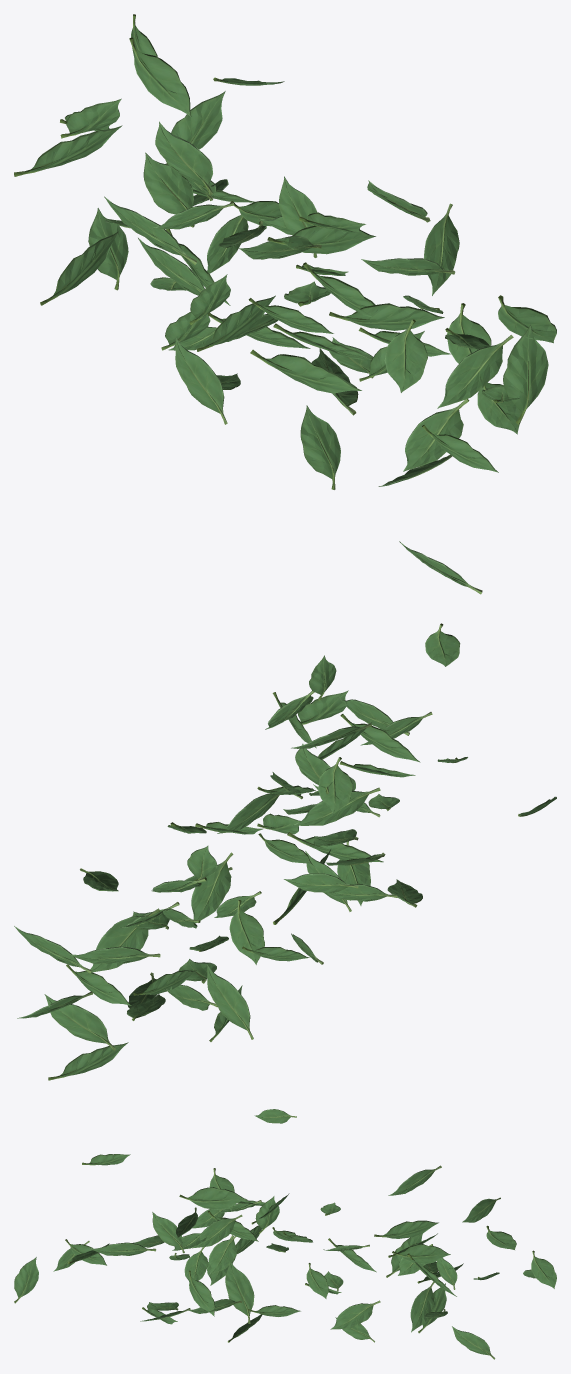
File: holy_canopy10_full.glb
The picture shows the model from 3 angles, top to bottom: view 1: azimuth 30°, elevation 25°; view 2: azimuth 150°, elevation 25°; view 3: azimuth 270°, elevation 25°; orthographic projection. The views are drawn at different scales.
Visible parts, largest first — view 1: holy_canopy10; view 2: holy_canopy10; view 3: holy_canopy10.
Part boxes in pixels (x1,y1,x2,y2): holy_canopy10: (14,14,556,594); holy_canopy10: (14,623,556,1080); holy_canopy10: (14,1109,556,1359).
Size of the model in its own units: 7.69 by 10.48 by 23.42.
Materials: 1 (1 with a texture image).
